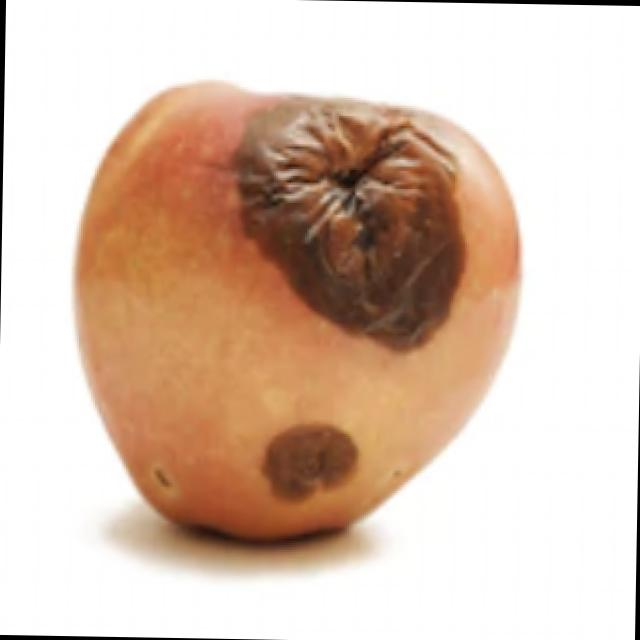rotten_apple: (73, 78, 527, 550)
